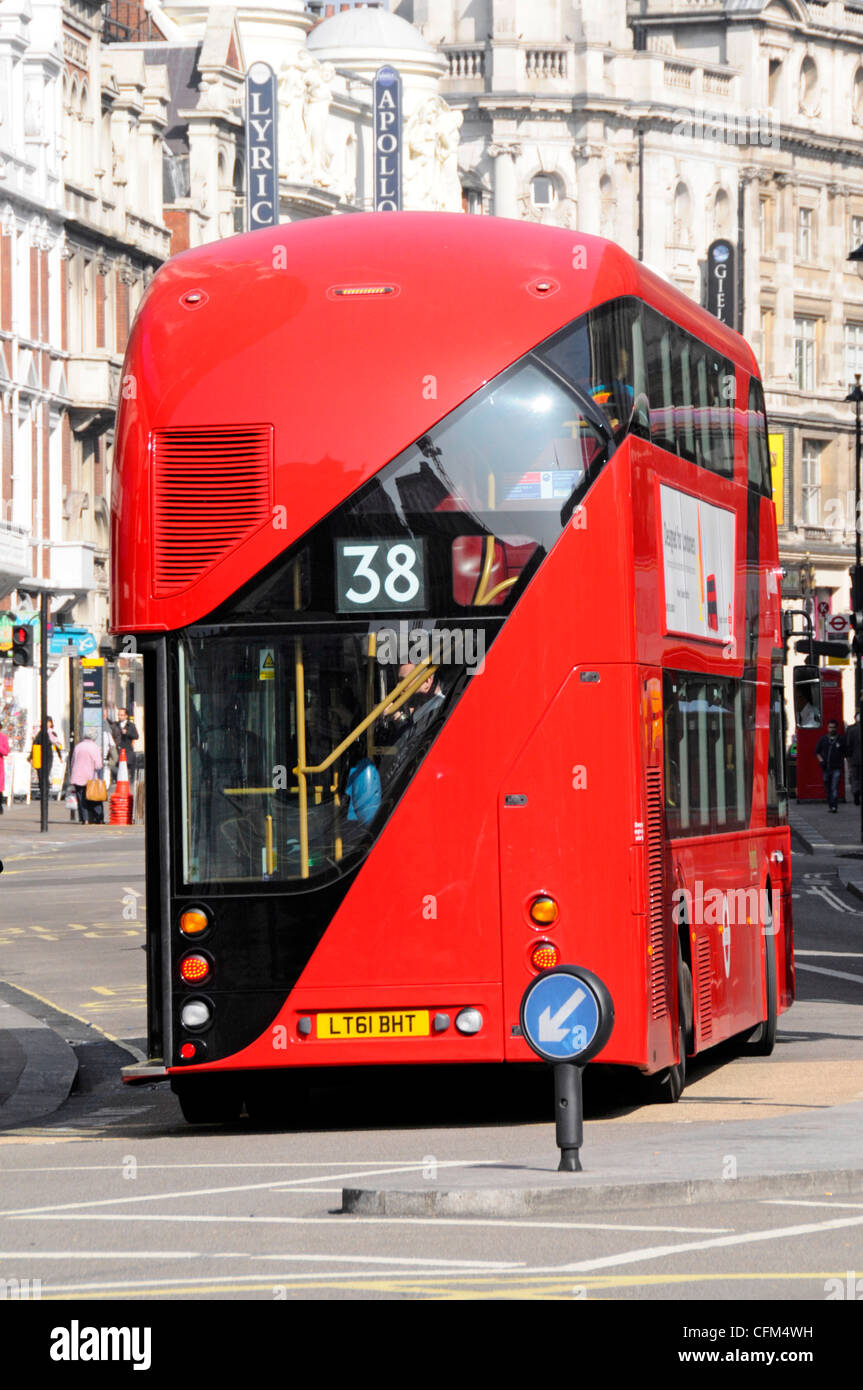red_busess: (117, 211, 790, 1083)
